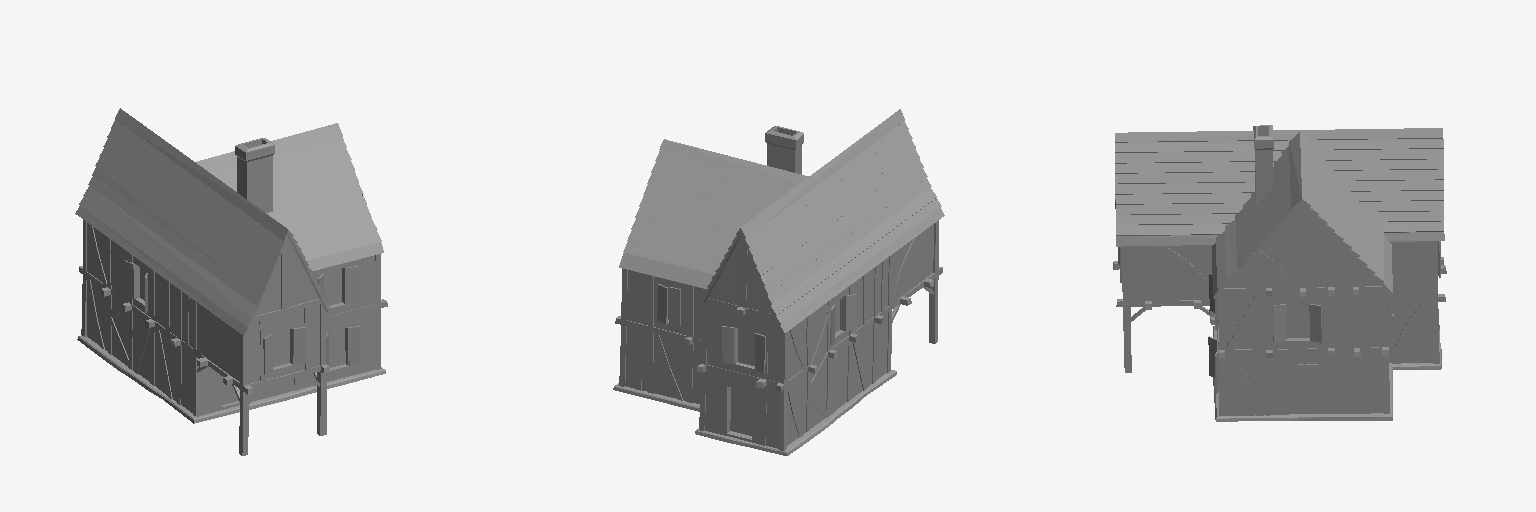
Rendered from house.obj.
3 views of the same model, side by side, from view 1: azimuth 30°, elevation 25°; view 2: azimuth 150°, elevation 25°; view 3: azimuth 270°, elevation 25° (orthographic).
Parts seen in each view (by area): view 1: Mesh_Box291; view 2: Mesh_Box291; view 3: Mesh_Box291.
Part boxes in pixels (left/top/right/bottom): Mesh_Box291: left=75, top=108, right=387, bottom=455; Mesh_Box291: left=613, top=109, right=944, bottom=455; Mesh_Box291: left=1113, top=125, right=1446, bottom=421.
Bounding box in the file's own units: 1.32 × 1.51 × 1.89.